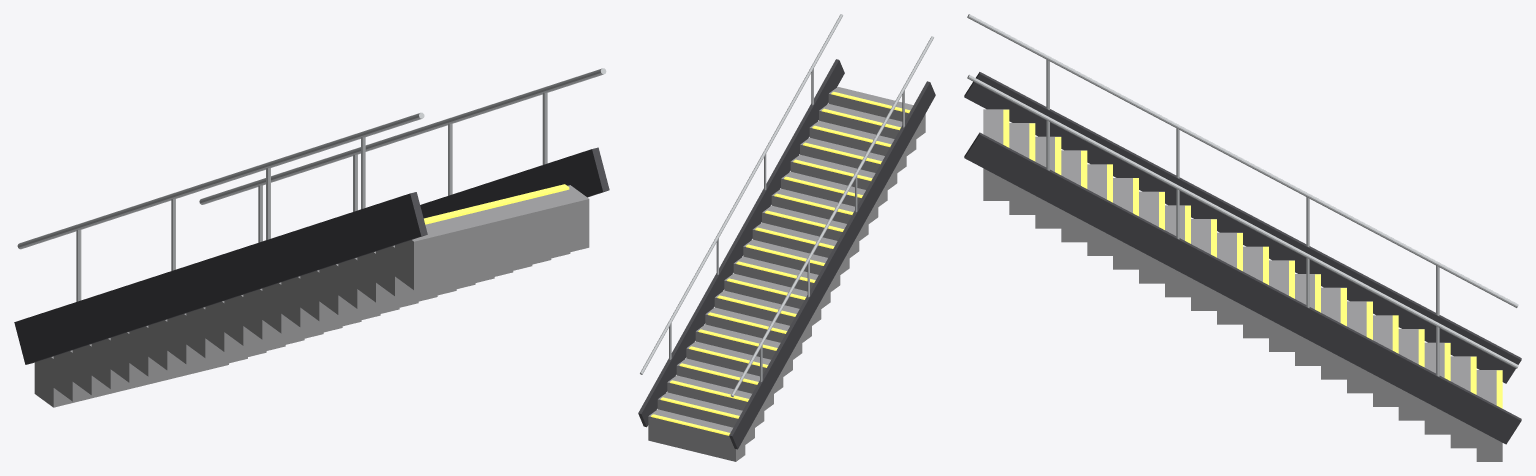
The model's file is stairs.gltf.
3 renders of one model, left to right at view 1: azimuth 30°, elevation 25°; view 2: azimuth 150°, elevation 25°; view 3: azimuth 270°, elevation 25°, orthographic. The views are drawn at different scales.
Parts seen in each view (by area): view 1: Stringer-1, Step0, Stringer1, Handrail-1, Handrail1, Step8, Step6, Step3, Step5, Step11, Step12, Step13 (+13 smaller); view 2: Stringer-1, Stringer1, Step19, Step18, Handrail1, Handrail-1, Step17, Step7, Step3, Step8, Step1, Step12 (+14 smaller); view 3: Stringer1, Stringer-1, Handrail-1, Handrail1, Step18, Step16, Step19, Step1, Step0, Step3, Step14, Step6 (+12 smaller).
Boxes of the visible parts, x1,y1,x2,y2 form: Stringer-1: (14, 192, 427, 364); Step0: (395, 185, 589, 290); Stringer1: (420, 147, 609, 218); Handrail-1: (17, 112, 424, 249); Handrail1: (199, 68, 606, 204); Step8: (243, 288, 437, 339); Step6: (281, 276, 475, 327); Step3: (338, 258, 532, 308); Step5: (300, 270, 494, 321); Step11: (186, 307, 380, 358); Step12: (167, 313, 361, 364); Step13: (148, 319, 342, 370); Stringer-1: (729, 81, 935, 449); Stringer1: (638, 59, 844, 427); Step19: (648, 409, 745, 461); Step18: (657, 392, 754, 444); Handrail1: (640, 14, 842, 374); Handrail-1: (730, 36, 933, 396); Step17: (667, 375, 764, 427); Step7: (762, 205, 859, 257); Step3: (800, 137, 897, 189); Step8: (752, 222, 849, 274); Step1: (819, 103, 916, 155); Step12: (714, 290, 811, 342); Stringer1: (964, 132, 1521, 444); Stringer-1: (964, 72, 1521, 383); Handrail-1: (967, 14, 1518, 307); Handrail1: (967, 75, 1518, 368); Step18: (1450, 356, 1476, 448); Step16: (1398, 329, 1424, 420); Step19: (1476, 370, 1502, 461); Step1: (1009, 123, 1035, 214); Step0: (983, 109, 1009, 200); Step3: (1061, 150, 1087, 242); Step14: (1347, 301, 1372, 393); Step6: (1139, 191, 1164, 283).
Size of the model in its own units: 1.72 by 4.95 by 6.44.
